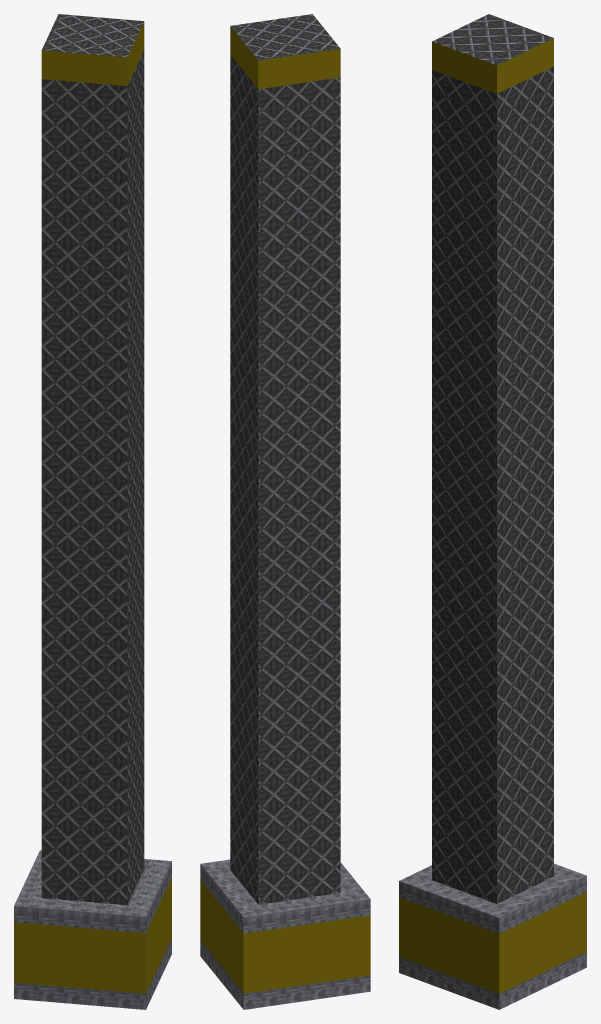
Rendered from DrillStand.fbx.
3 renders of one model, left to right at view 1: azimuth 30°, elevation 25°; view 2: azimuth 150°, elevation 25°; view 3: azimuth 270°, elevation 25°, orthographic.
Visible parts, largest first — view 1: Cube.195; view 2: Cube.195; view 3: Cube.195.
Part boxes in pixels (box(x1,y1,x2,y2)): Cube.195: box(14, 14, 171, 1009); Cube.195: box(200, 14, 370, 1009); Cube.195: box(399, 14, 586, 1009).
Size of the model in its own units: 739 by 4041 by 739.
